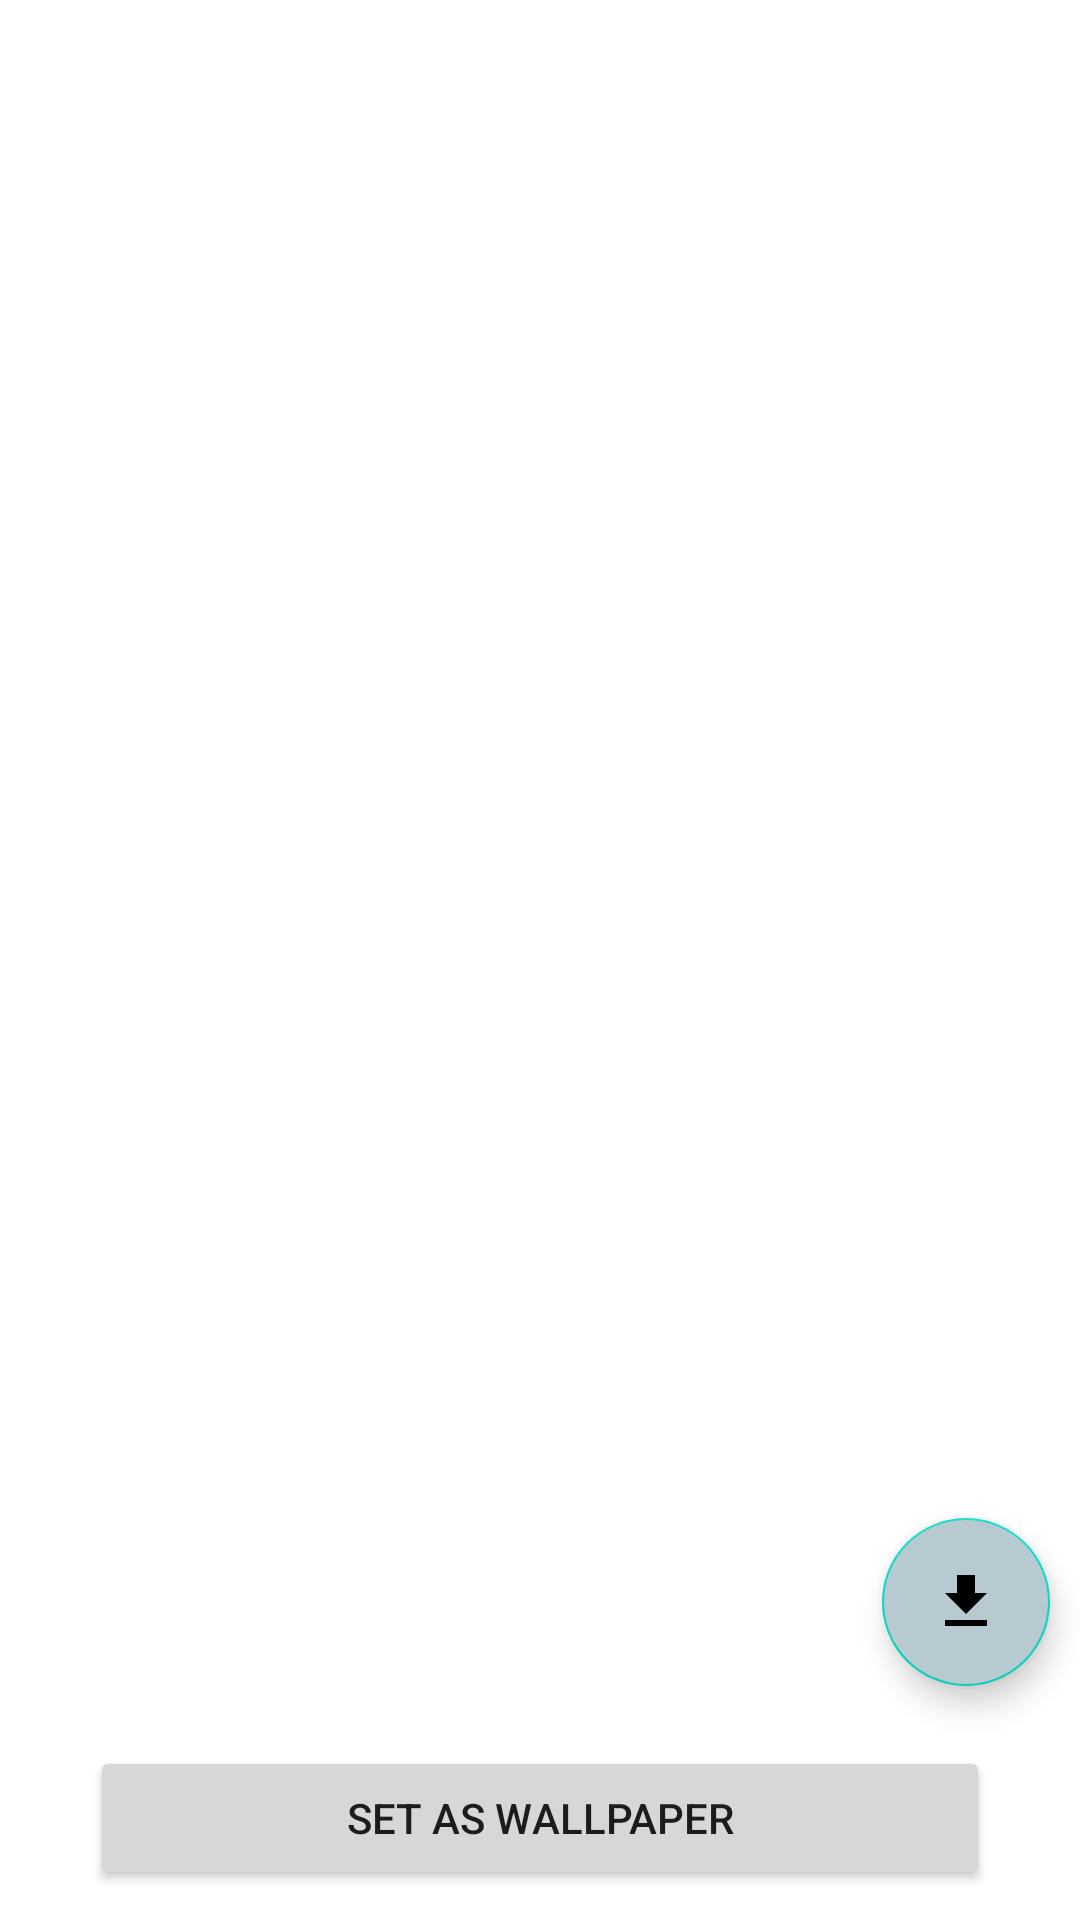

Locate icon controls on the screen. Image size 1080 x 1920, boxes as (x1=x1, y1=y1, x2=x2, y2=y2).
file download: (x1=882, y1=1518, x2=1050, y2=1686)
